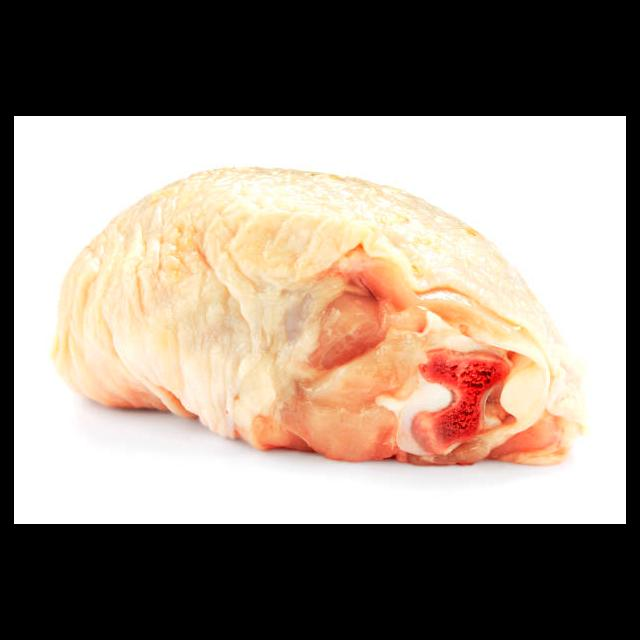chicken: (50, 164, 589, 472)
